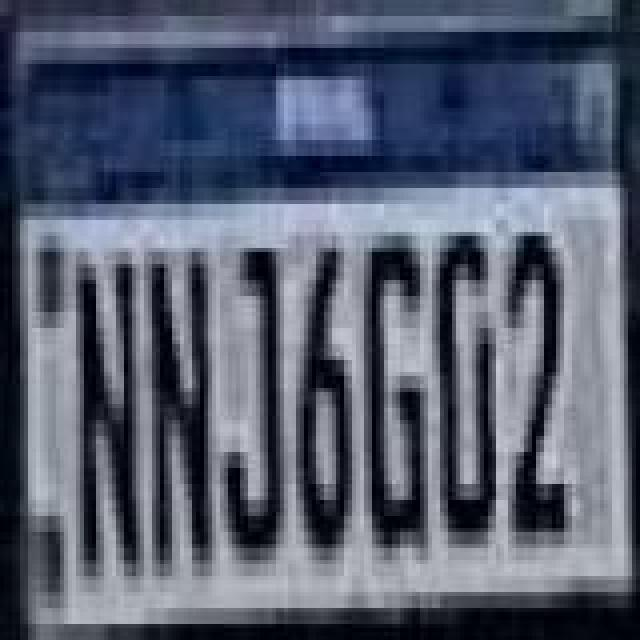2: (502, 228, 570, 556)
6: (292, 244, 356, 572)
D: (436, 228, 500, 556)
G: (366, 236, 434, 564)
J: (222, 244, 290, 572)
N: (78, 252, 146, 580), (150, 260, 218, 588)
